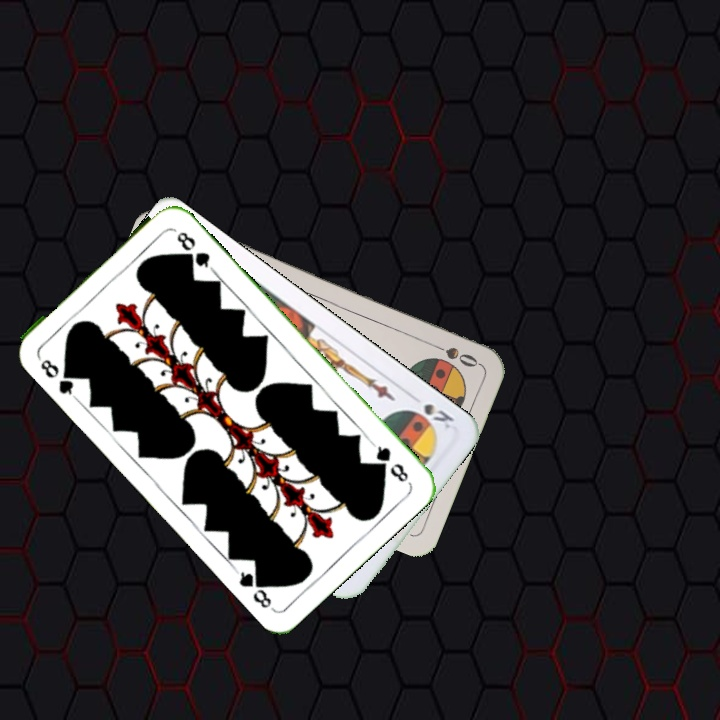G8: (367, 439, 411, 485), (36, 355, 80, 401)
SK: (403, 399, 457, 432)
SO: (425, 338, 481, 370)
